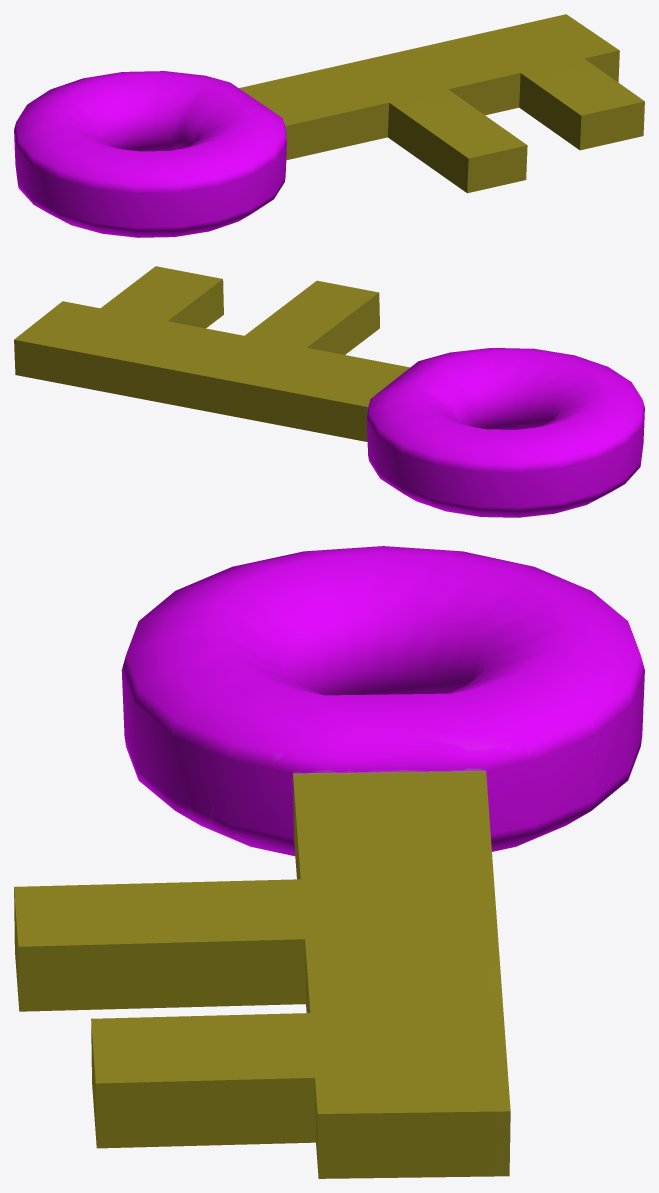
File: KeyFinal.fbx
3 renders of one model, top to bottom at view 1: azimuth 30°, elevation 25°; view 2: azimuth 150°, elevation 25°; view 3: azimuth 270°, elevation 25°, orthographic. The views are drawn at different scales.
Parts seen in each view (by area): view 1: pTorus1; view 2: pTorus1; view 3: pTorus1.
Part boxes in pixels (x1=…): pTorus1: x1=14, y1=14, x2=644, y2=237; pTorus1: x1=14, y1=266, x2=644, y2=517; pTorus1: x1=14, y1=546, x2=644, y2=1178.
Size of the model in its own units: 7.2 by 1 by 3.62.
1 material, 1 textured.
